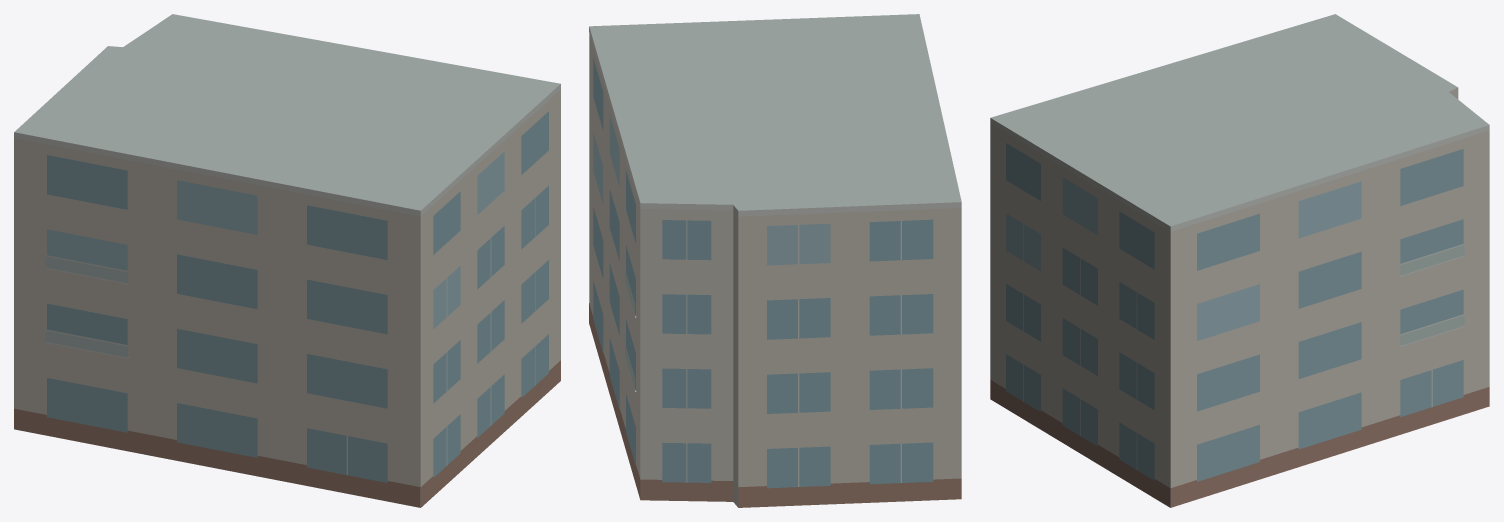
Rendered from survey-upis-32810703.glb.
3 views of the same model, side by side, from view 1: azimuth 30°, elevation 25°; view 2: azimuth 150°, elevation 25°; view 3: azimuth 270°, elevation 25° (orthographic). The views are drawn at different scales.
Parts seen in each view (by area): view 1: survey-upis-32810703.tmp; view 2: survey-upis-32810703.tmp; view 3: survey-upis-32810703.tmp.
Boxes of the visible parts, <box> form: survey-upis-32810703.tmp: <box>14,14,560,507</box>; survey-upis-32810703.tmp: <box>589,14,961,507</box>; survey-upis-32810703.tmp: <box>990,14,1489,507</box>.
Size of the model in its own units: 20.57 by 12.7 by 20.43.
